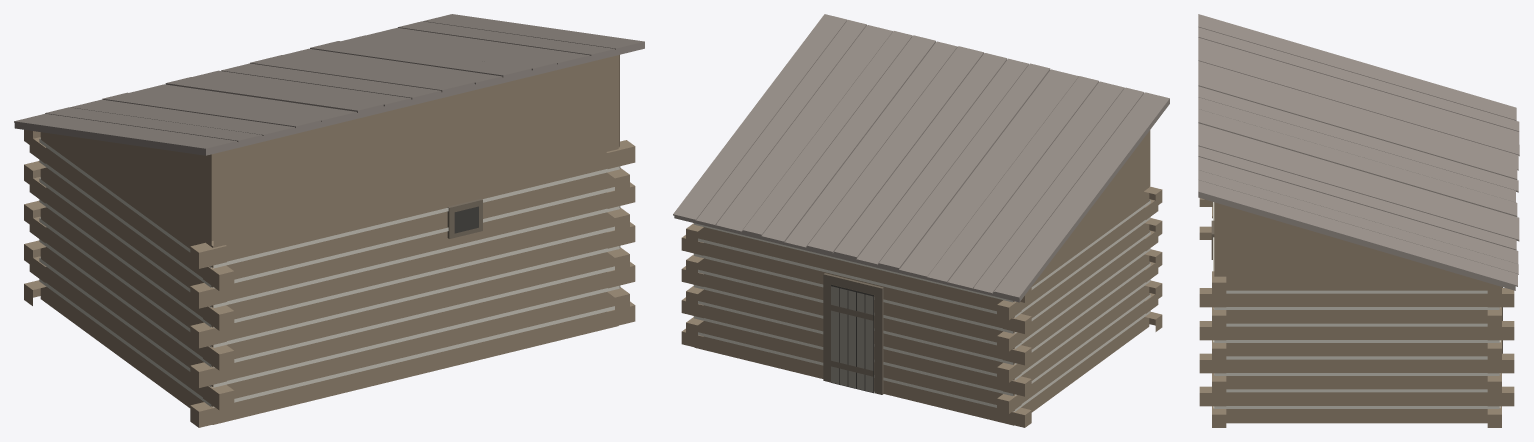
File: fort_dearborn_out_building_sw__out_building_1830.glb
3 views of the same model, side by side, from view 1: azimuth 30°, elevation 25°; view 2: azimuth 150°, elevation 25°; view 3: azimuth 270°, elevation 25° (orthographic). The views are drawn at different scales.
Parts seen in each view (by area): view 1: fort_dearborn_out_building_sw__out_building_1830; view 2: fort_dearborn_out_building_sw__out_building_1830; view 3: fort_dearborn_out_building_sw__out_building_1830.
Part boxes in pixels (<box>): fort_dearborn_out_building_sw__out_building_1830: <box>14,14,644,427</box>; fort_dearborn_out_building_sw__out_building_1830: <box>673,14,1169,427</box>; fort_dearborn_out_building_sw__out_building_1830: <box>1198,14,1519,427</box>.
Size of the model in its own units: 6.92 by 4.34 by 5.29.
